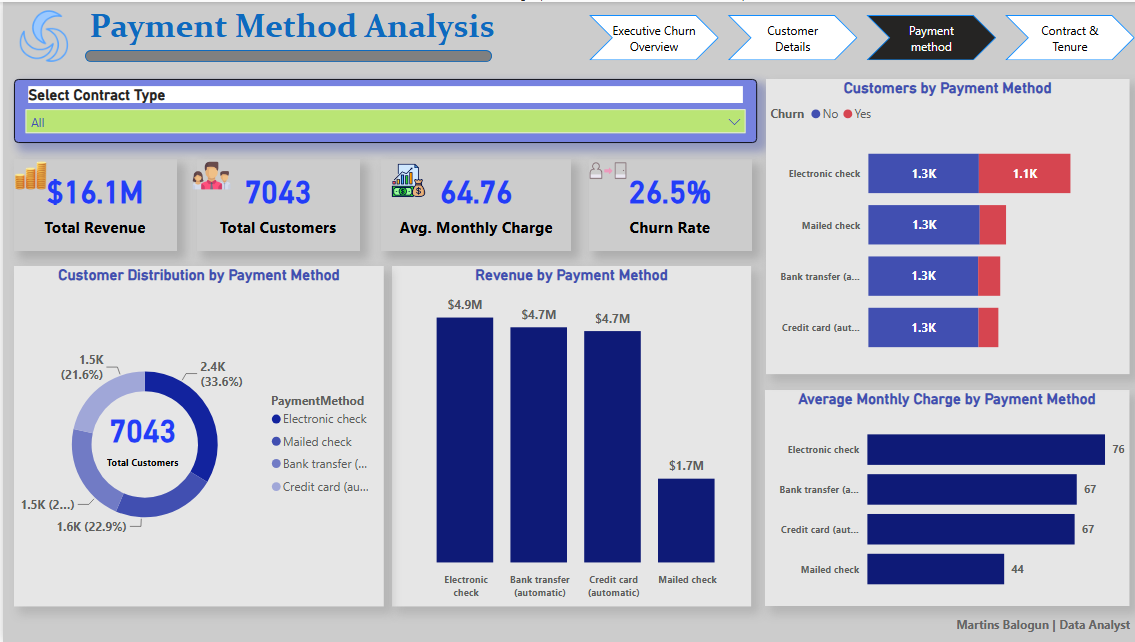

The page's visual inventory and layout, read from the dashboard file:
{"tool":"powerbi","page":{"name":"Payment method","canvas":[1280,720],"ordinal":2},"visuals":[{"type":"textbox","box":[92.6,-0.8,566.6,56.8],"z":0,"group":"g2"},{"type":"donutChart","title":"Customer Distribution by Payment Method","fields":{"Category":["Fact Customer Churn.PaymentMethod"],"Y":["Measures Table.Total Customers"]},"box":[12.4,297,416.2,382.5],"z":0,"group":"g1"},{"type":"image","box":[0,3.4,92.3,69.8],"z":1000,"group":"g2"},{"type":"cardVisual","fields":{"Data":["Measures Table.Total Customers"]},"box":[69.2,436.5,177.7,114.8],"z":1000,"group":"g1"},{"type":"cardVisual","fields":{"Data":["Measures Table.Total Revenue"]},"box":[12.3,176.7,182.9,103.6],"z":4000},{"type":"cardVisual","fields":{"Data":["Measures Table.Total Customers"]},"box":[217.8,176.7,182.9,103.6],"z":5000},{"type":"shape","box":[92.6,54,457.9,13.6],"z":6000,"group":"g2"},{"type":"cardVisual","fields":{"Data":["Measures Table.Average Monthly Charge"]},"box":[425.8,176.7,214.3,103.7],"z":6000},{"type":"cardVisual","fields":{"Data":["Measures Table.Churn Rate"]},"box":[659.2,176.7,182.9,103.6],"z":7000},{"type":"clusteredColumnChart","title":"Revenue by Payment Method","fields":{"Category":["Fact Customer Churn.PaymentMethod"],"Y":["Measures Table.Total Revenue"]},"box":[437.6,297,403.9,382.5],"z":8000},{"type":"slicer","fields":{"Values":["Fact Customer Churn.Contract"]},"box":[12.3,86.4,835.9,72],"z":9000},{"type":"group","id":"g1","title":"Group 1","box":[12.4,297,416.2,382.5],"z":10000},{"type":"clusteredBarChart","title":"Average Monthly Charge by Payment Method","fields":{"Y":["Measures Table.Average Monthly Charge"],"Category":["Fact Customer Churn.PaymentMethod"]},"box":[857.2,436.5,409.5,243],"z":11000},{"type":"barChart","title":"Customers by Payment Method","fields":{"Category":["Fact Customer Churn.PaymentMethod"],"Y":["Measures Table.Total Customers"],"Series":["Fact Customer Churn.Churn"]},"box":[857.9,86.4,408.6,332],"z":12000},{"type":"textbox","title":"Label","box":[973.9,686.3,298.7,33.3],"z":13000},{"type":"pageNavigator","box":[659.2,14.6,615.4,51.8],"z":14000},{"type":"group","id":"g2","title":"Group 2","box":[0,-0.8,659.1,73.9],"z":15000},{"type":"image","box":[425.2,176.6,62.1,47.8],"z":16000},{"type":"image","box":[208.1,168.8,52.9,52.9],"z":17000},{"type":"image","box":[5.6,164.2,50.6,61.9],"z":18000},{"type":"image","box":[640.1,158.6,81,61.9],"z":19000}]}

Visuals, with their boxes in screenshot pixels (x1, y1, x2, y2), scaled from the page's 1280x720 canvas onto the 1135x642 screenshot:
textbox: x1=82 y1=0 x2=585 y2=50
"Customer Distribution by Payment Method" donutChart: x1=11 y1=265 x2=380 y2=606
image: x1=0 y1=3 x2=82 y2=65
cardVisual - Measures Table.Total Customers: x1=61 y1=389 x2=219 y2=492
cardVisual - Measures Table.Total Revenue: x1=11 y1=158 x2=173 y2=250
cardVisual - Measures Table.Total Customers: x1=193 y1=158 x2=355 y2=250
shape: x1=82 y1=48 x2=488 y2=60
cardVisual - Measures Table.Average Monthly Charge: x1=378 y1=158 x2=568 y2=250
cardVisual - Measures Table.Churn Rate: x1=585 y1=158 x2=747 y2=250
"Revenue by Payment Method" clusteredColumnChart: x1=388 y1=265 x2=746 y2=606
slicer - Fact Customer Churn.Contract: x1=11 y1=77 x2=752 y2=141
"Group 1" group: x1=11 y1=265 x2=380 y2=606
"Average Monthly Charge by Payment Method" clusteredBarChart: x1=760 y1=389 x2=1123 y2=606
"Customers by Payment Method" barChart: x1=761 y1=77 x2=1123 y2=373
"Label" textbox: x1=864 y1=612 x2=1128 y2=641
pageNavigator: x1=585 y1=13 x2=1130 y2=59
"Group 2" group: x1=0 y1=0 x2=584 y2=65
image: x1=377 y1=157 x2=432 y2=200
image: x1=185 y1=151 x2=231 y2=198
image: x1=5 y1=146 x2=50 y2=202
image: x1=568 y1=141 x2=639 y2=197
